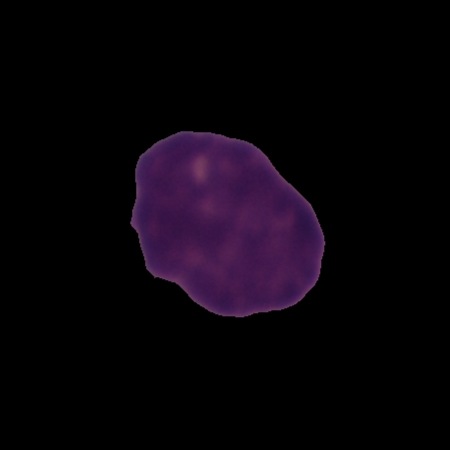HEM: (127, 127, 328, 320)
